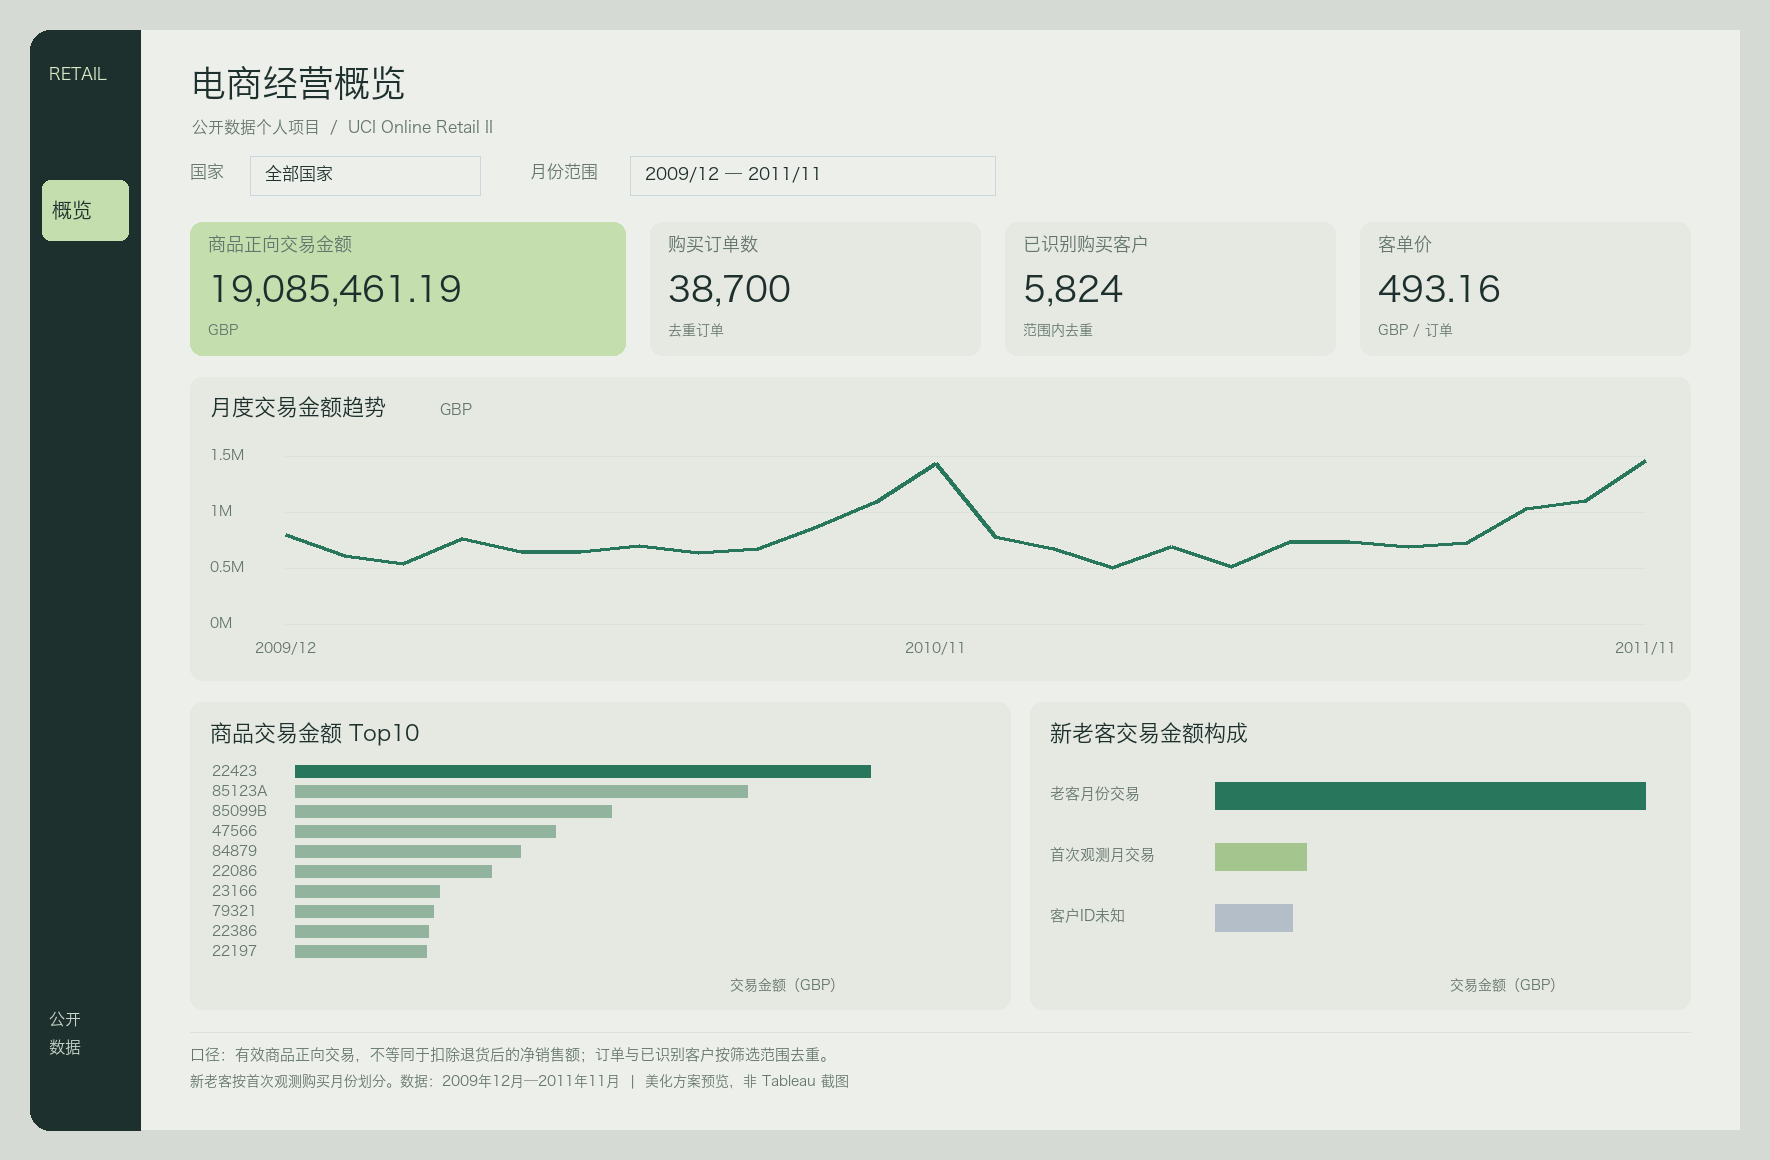

Layout of this report page (visuals, bound fields, positions):
{"tool":"tableau","page":{"name":"电商经营概览","canvas":[1200,800],"ordinal":0},"visuals":[{"type":"title","box":[8,8,1184,70]},{"type":"filter","title":"经营概览－商品排名","param":"[federated.157g0j00ozi3fg13ckk121qpsyf8].[none:Country:nk]","box":[8,78,430,63]},{"type":"filter","title":"经营概览－月度趋势","param":"[federated.157g0j00ozi3fg13ckk121qpsyf8].[none:Month:qk]","box":[438,78,754,63]},{"type":"worksheet","title":"经营概览－金额","mark":"Text","box":[8,141,296,82]},{"type":"worksheet","title":"经营概览－订单数","mark":"Automatic","box":[304,141,296,82]},{"type":"worksheet","title":"经营概览－客户数","mark":"Automatic","box":[600,141,296,82]},{"type":"worksheet","title":"经营概览－客单价","mark":"Automatic","box":[896,141,296,82]},{"type":"worksheet","title":"经营概览－月度趋势","mark":"Bar","rows":["LineAmount"],"cols":["Month"],"box":[8,222.7,1184,222.3]},{"type":"worksheet","title":"经营概览－商品排名","mark":"Automatic","rows":["StockCode","Calculation_2552719231754242"],"cols":["LineAmount"],"box":[8,445,608,306]},{"type":"worksheet","title":"经营概览－新老客构成","mark":"Bar","rows":["CustomerType"],"cols":["LineAmount"],"box":[616,445,576,306]},{"type":"text","box":[8,751,1184,41]}]}

Visuals, with their boxes on the page's 1200x800 design canvas (x1, y1, x2, y2). These are canvas units, not pixel positions in the 1770x1160 screenshot, which may show the page scaled, cropped or inside an application window:
title: bbox(8, 8, 1192, 78)
"经营概览－商品排名" filter: bbox(8, 78, 438, 141)
"经营概览－月度趋势" filter: bbox(438, 78, 1192, 141)
"经营概览－金额" worksheet (Text marks): bbox(8, 141, 304, 223)
"经营概览－订单数" worksheet: bbox(304, 141, 600, 223)
"经营概览－客户数" worksheet: bbox(600, 141, 896, 223)
"经营概览－客单价" worksheet: bbox(896, 141, 1192, 223)
"经营概览－月度趋势" worksheet (Bar marks): bbox(8, 223, 1192, 445)
"经营概览－商品排名" worksheet: bbox(8, 445, 616, 751)
"经营概览－新老客构成" worksheet (Bar marks): bbox(616, 445, 1192, 751)
text: bbox(8, 751, 1192, 792)
